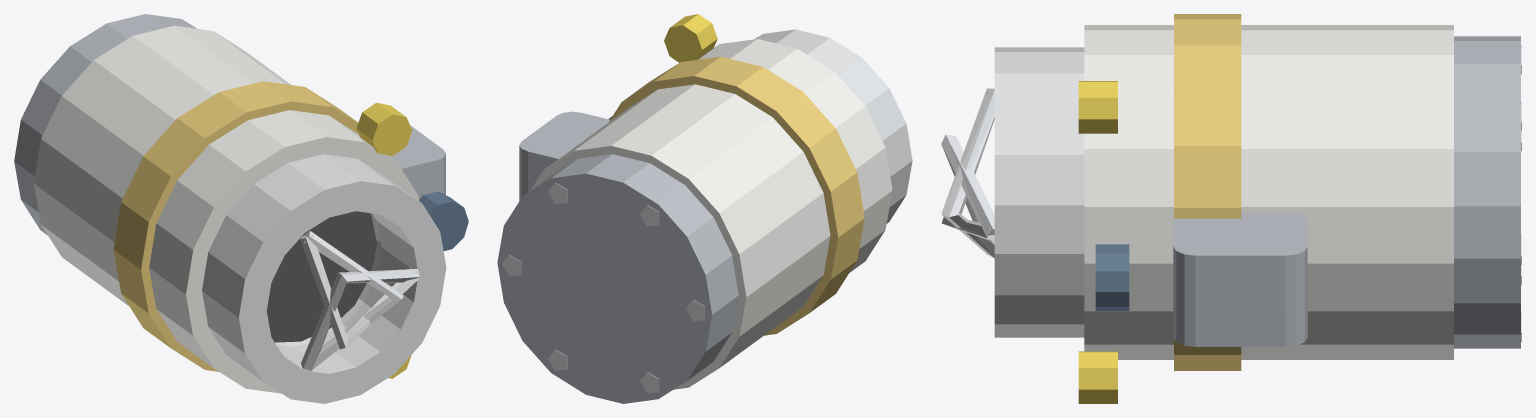
Rendered from orbital-station-and-docking-bays-latching-end-effector-6337cf2d__24555.glb.
The picture shows the model from 3 angles, left to right: view 1: azimuth 30°, elevation 25°; view 2: azimuth 150°, elevation 25°; view 3: azimuth 270°, elevation 25°; orthographic projection. The views are drawn at different scales.
Visible parts, largest first — view 1: latching-end-effector, snare-ring; view 2: latching-end-effector, snare-ring; view 3: latching-end-effector, snare-ring.
Boxes of the visible parts, box(x1,y1,x2,y2) form: latching-end-effector: box(14, 14, 468, 393); snare-ring: box(202, 154, 446, 403); latching-end-effector: box(497, 14, 892, 403); snare-ring: box(755, 29, 912, 223); latching-end-effector: box(1078, 14, 1521, 403); snare-ring: box(941, 47, 1084, 337).
Bounding box in the file's own units: 0.78 × 0.6327 × 1.04.
